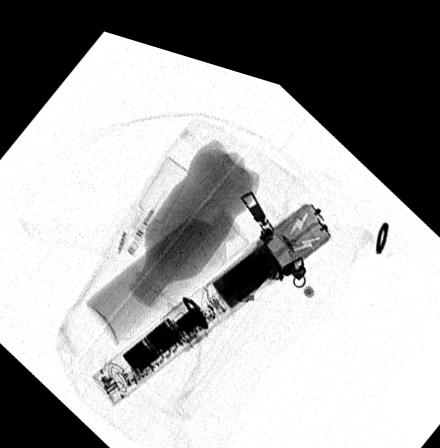Baton: (88, 181, 331, 399)
